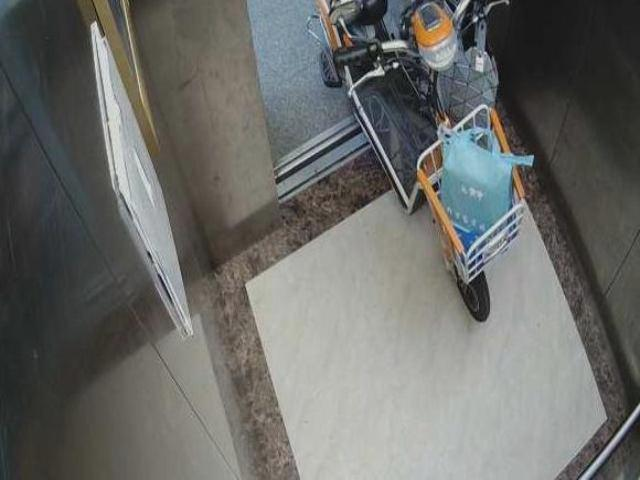emotor: (304, 3, 534, 333)
